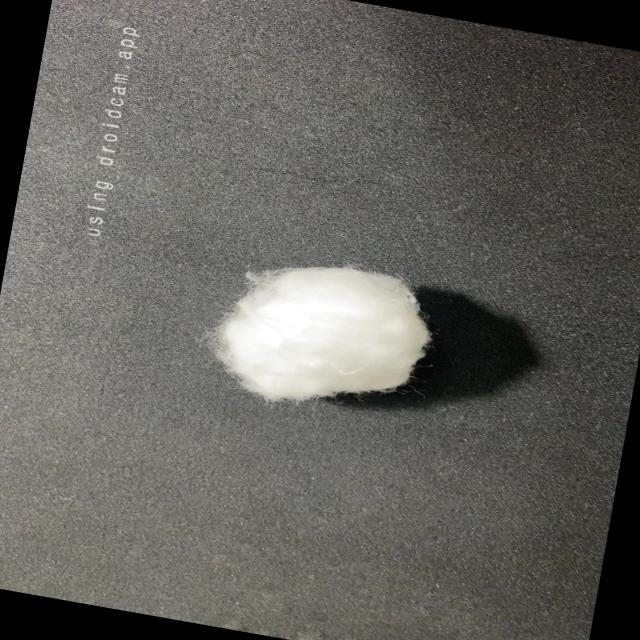cotton: (190, 235, 450, 433)
